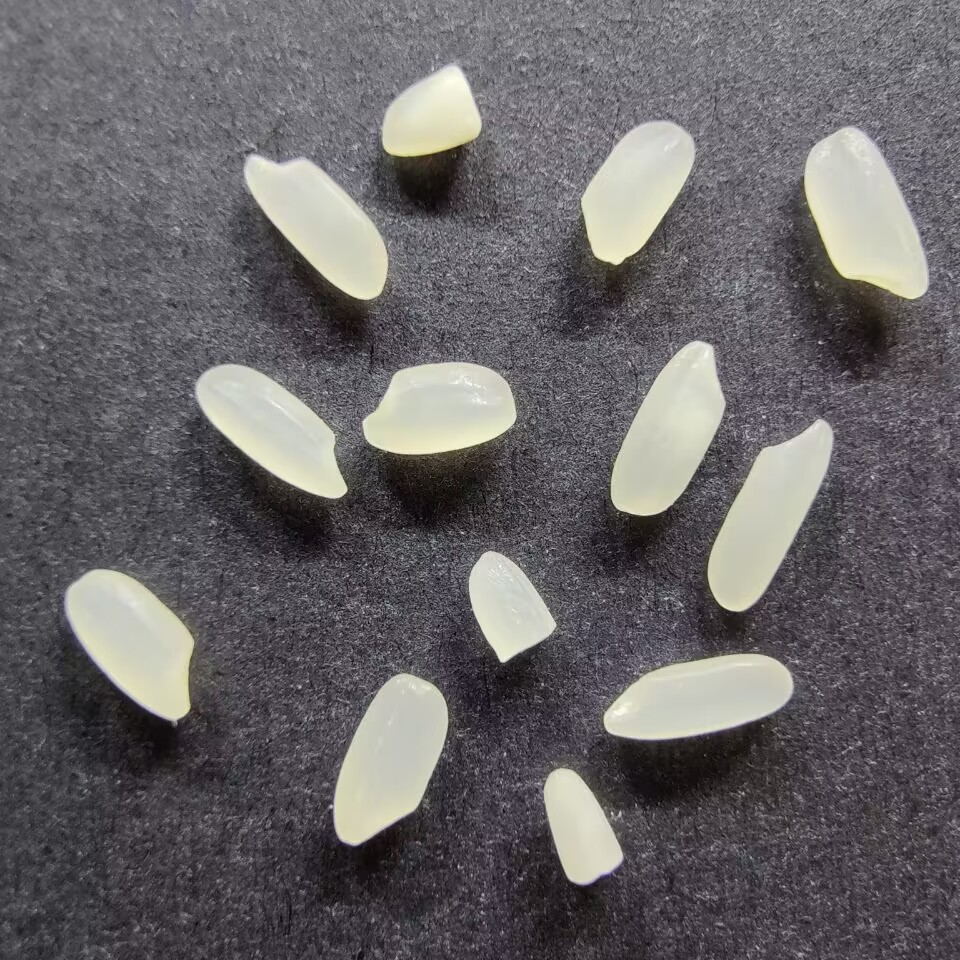broken: (466, 549, 558, 663), (543, 764, 627, 887), (379, 61, 482, 160)
rice: (705, 417, 835, 612), (802, 125, 930, 301), (194, 362, 350, 501), (242, 153, 389, 300), (609, 337, 727, 518), (331, 672, 450, 847), (63, 567, 196, 722), (579, 117, 695, 265), (602, 652, 794, 741), (360, 360, 517, 456)
